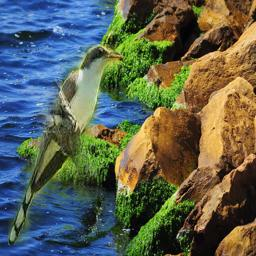Cuckoo: (9, 45, 124, 246)
